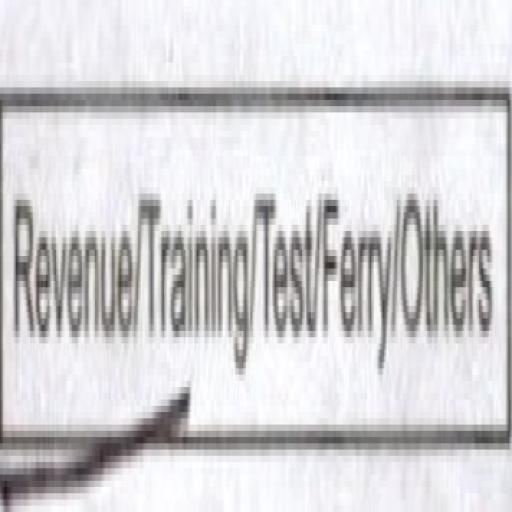check: (1, 2, 140, 512)
